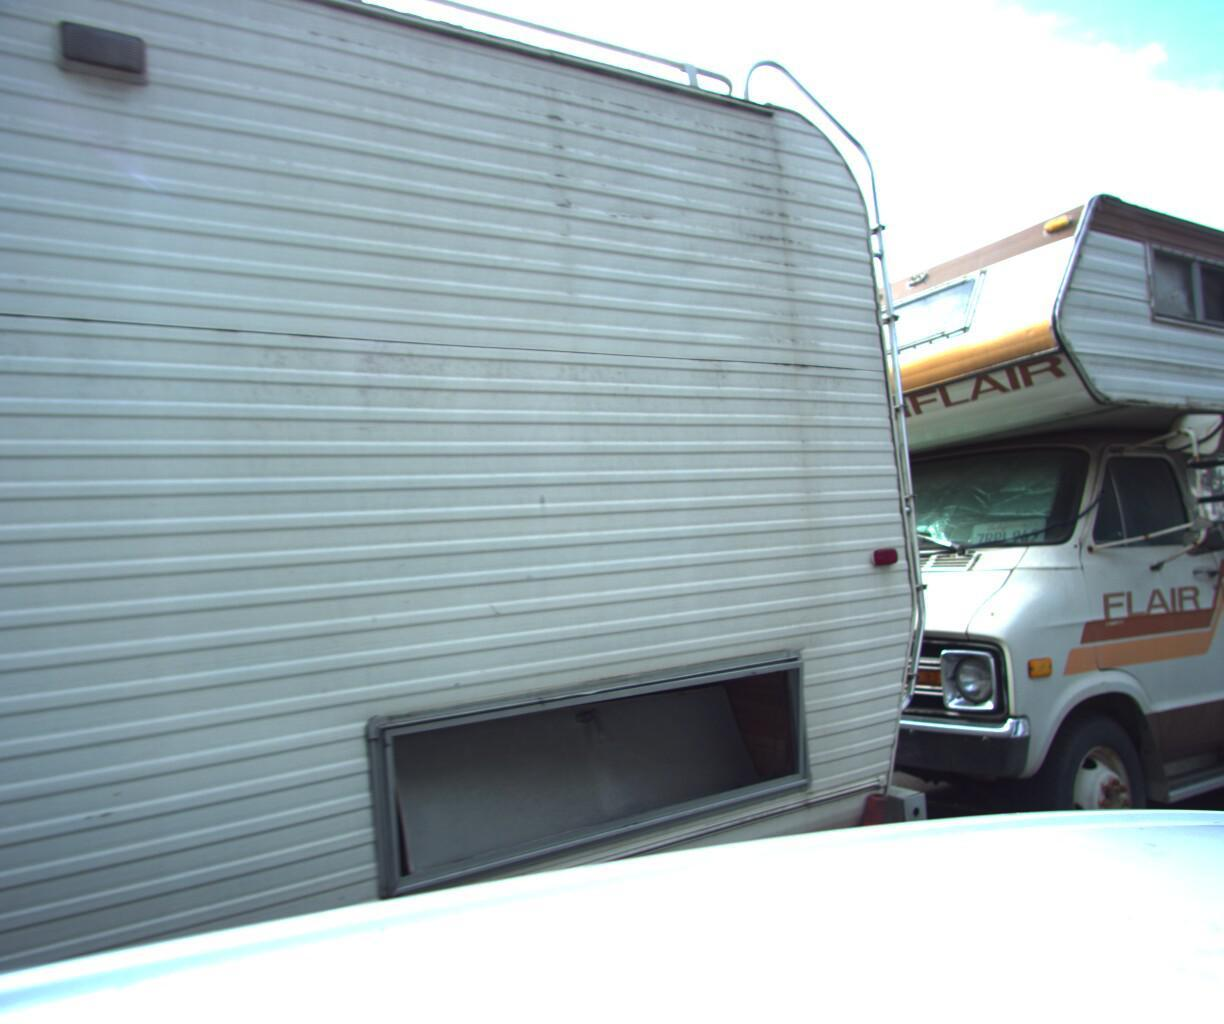other_vehicle: (629, 83, 1224, 980)
